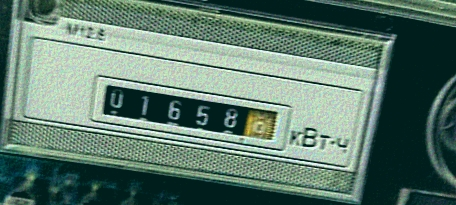0: (106, 86, 126, 110)
1: (136, 92, 153, 117)
5: (193, 102, 212, 128)
6: (164, 97, 185, 123)
8: (221, 106, 241, 130)
9: (248, 118, 267, 141)
screen: (84, 70, 296, 156)
